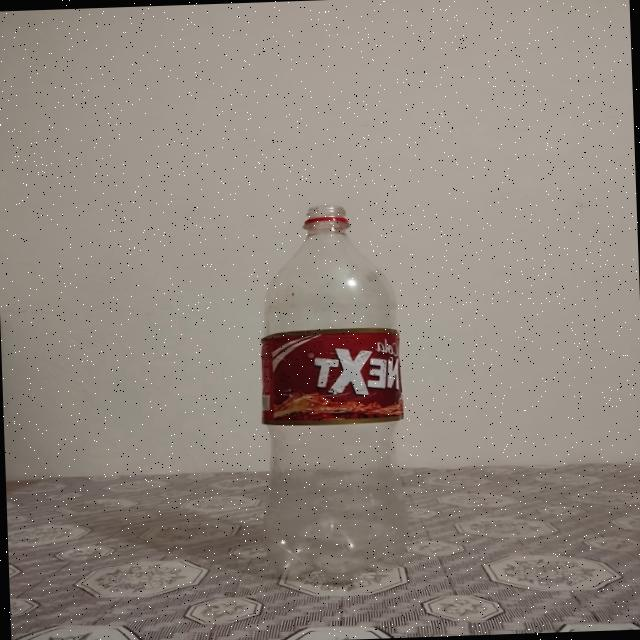bottle: (247, 205, 408, 596)
label: (254, 328, 401, 428)
